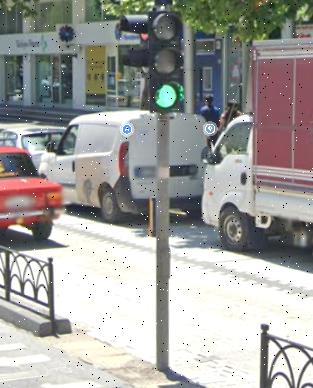greenlight: (148, 12, 183, 113)
redlight: (116, 7, 147, 109)
